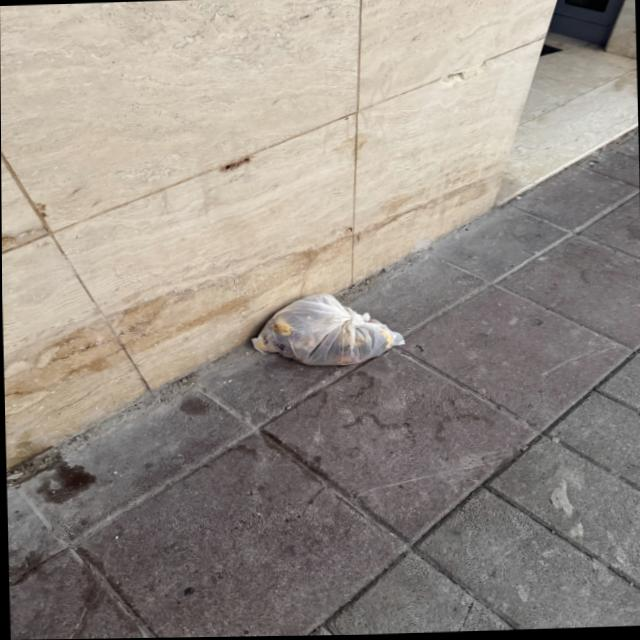Organic Waste -White Bags-: (254, 295, 406, 366)
